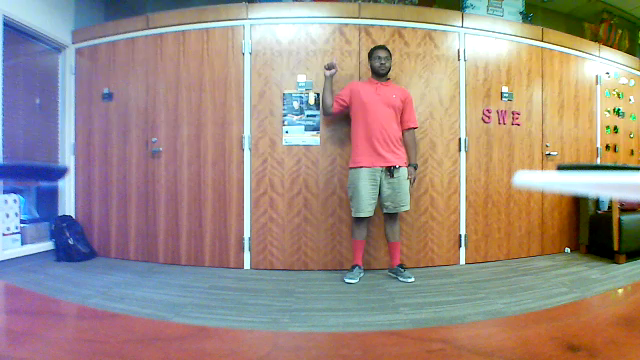up: (321, 46, 340, 80)
